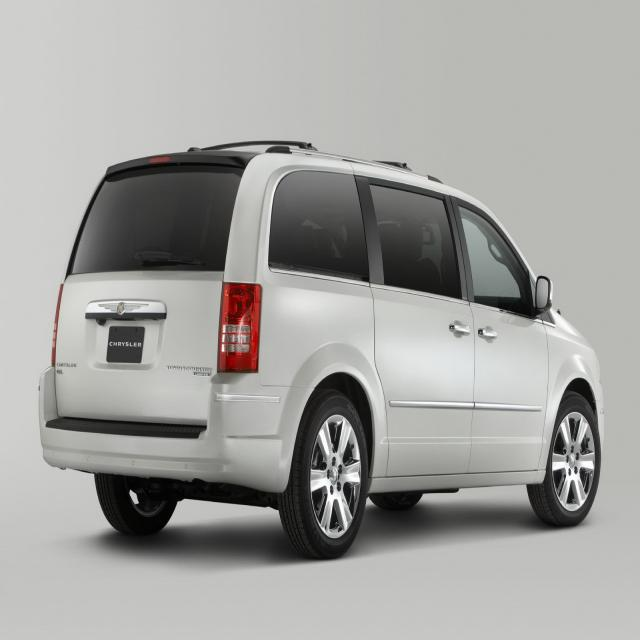car: (27, 112, 617, 569)
